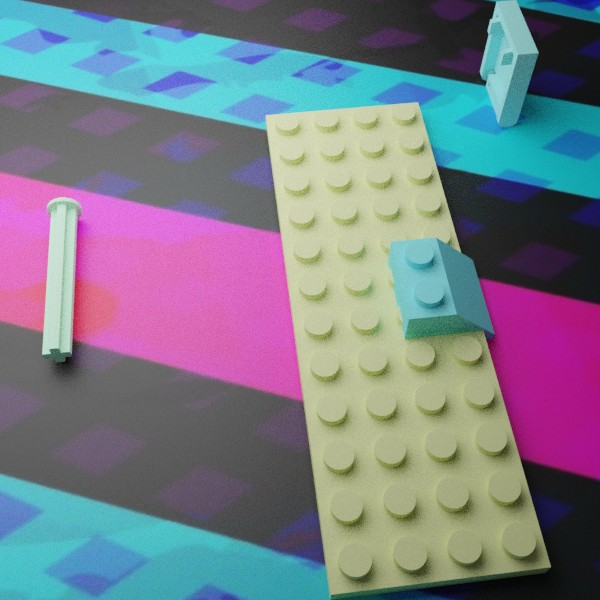lego: (265, 102, 551, 599), (386, 237, 494, 348), (479, 0, 538, 127), (42, 197, 82, 362)
